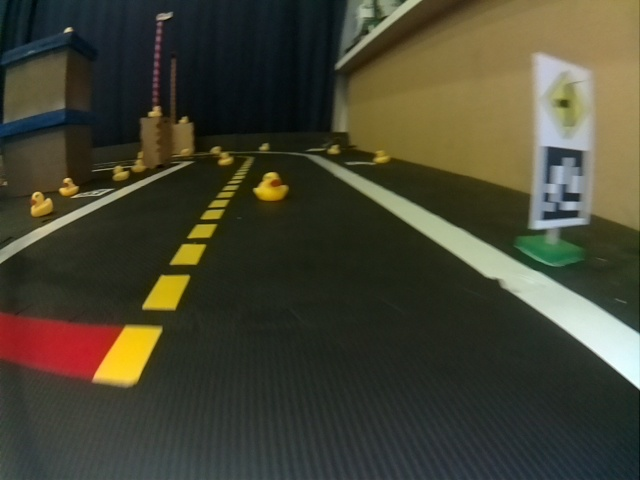Duckie: (254, 172, 288, 200), (30, 192, 53, 215), (59, 178, 78, 196), (218, 152, 232, 167), (113, 166, 127, 180), (375, 151, 390, 163), (327, 144, 337, 154), (181, 148, 190, 158), (148, 107, 157, 116), (211, 147, 221, 155), (260, 144, 269, 152), (181, 116, 188, 124)
Intersection sign: (533, 55, 592, 140)
QR code: (534, 149, 590, 229), (71, 189, 114, 198)
